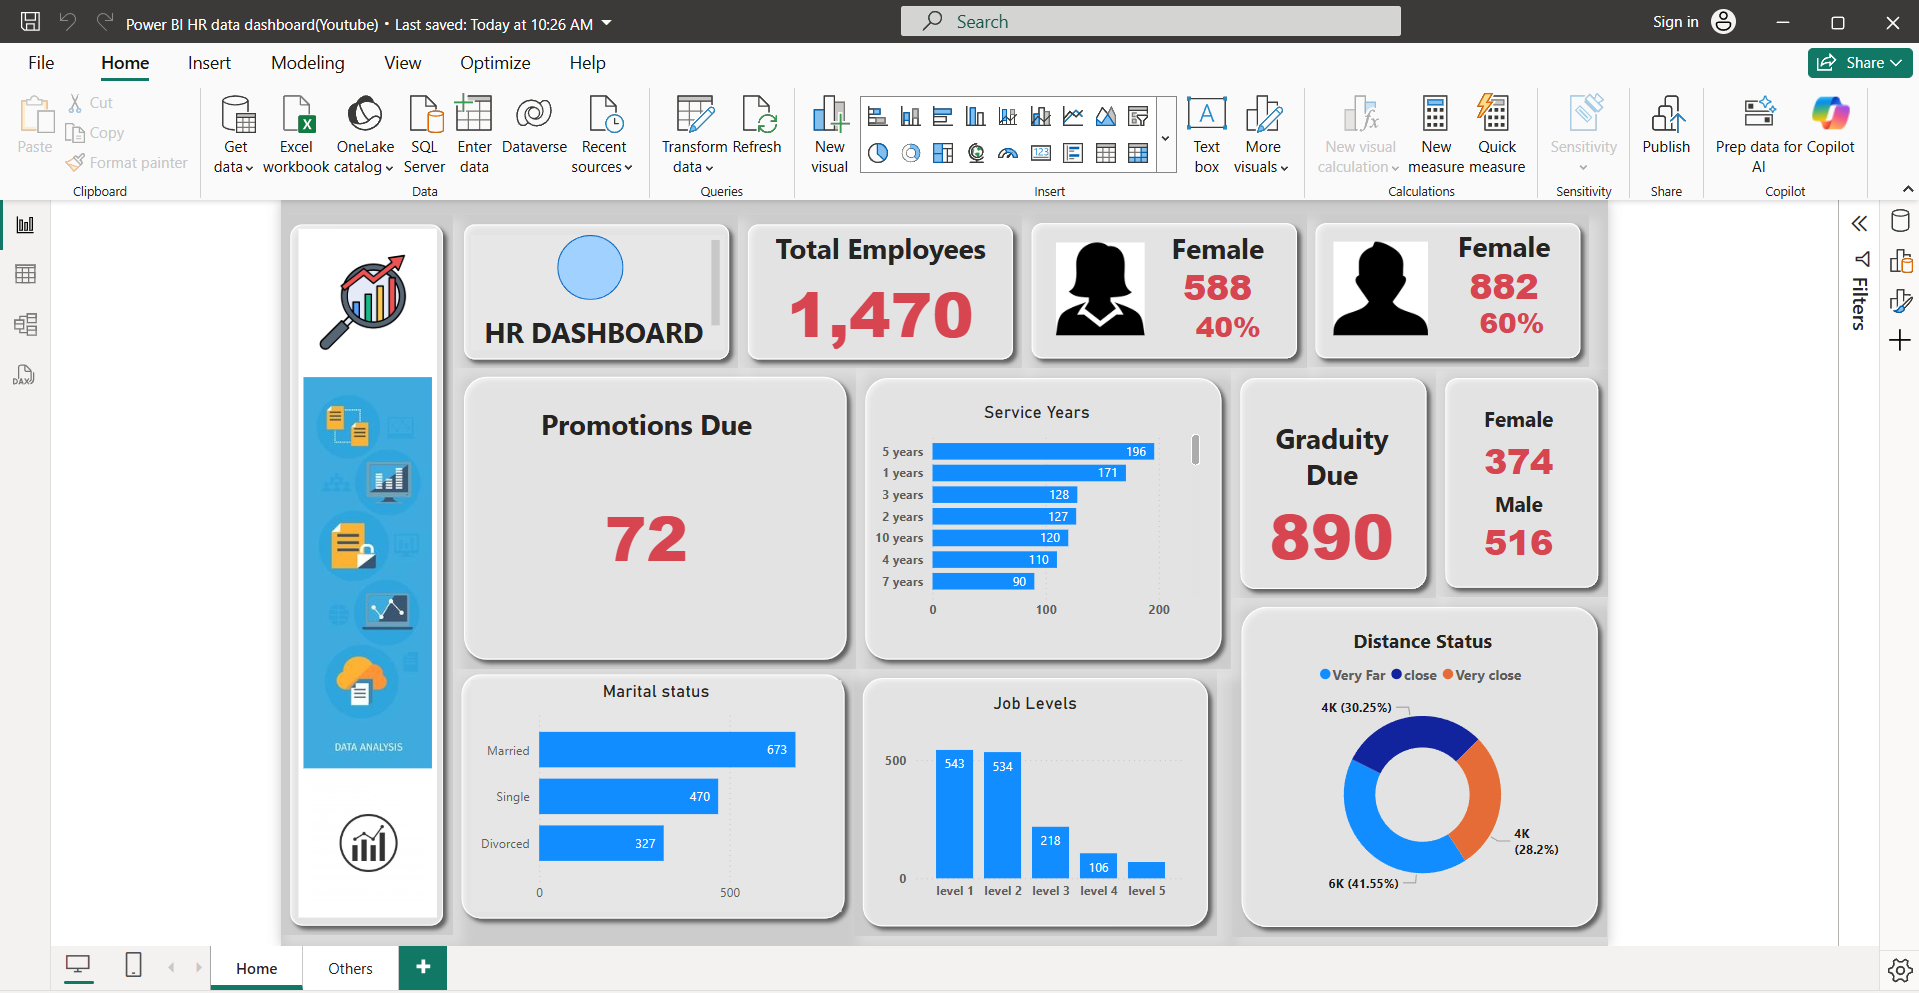

Layout of this report page (visuals, bound fields, positions):
{"tool":"powerbi","page":{"name":"Home","canvas":[1280,720],"ordinal":0},"visuals":[{"type":"shape","box":[0,14.5,165.3,694.9],"z":0},{"type":"shape","box":[989.3,13.3,273.9,148.4],"z":1000},{"type":"shape","box":[715.6,13,274.1,148.6],"z":2000},{"type":"shape","box":[441.6,14.5,273.9,148.4],"z":3000},{"type":"shape","box":[167.7,14.5,273.9,148.4],"z":4000},{"type":"shape","box":[168.2,161.5,387.1,291],"z":5000},{"type":"shape","box":[555.2,162.8,361.7,289.6],"z":6000},{"type":"shape","box":[552.6,452.5,351,257.6],"z":7000},{"type":"shape","box":[917,162.8,197.5,221.6],"z":8000},{"type":"shape","box":[1114.5,162.8,165.5,220.2],"z":9000},{"type":"shape","box":[918.3,383.1,361.7,327],"z":10000},{"type":"textbox","box":[183.4,33.8,244.9,111],"z":11000},{"type":"shape","box":[266.6,33.8,63.9,62.7],"z":12000},{"type":"card","title":"Total Employees","fields":{"Values":["New Measures.Total Emp"]},"box":[455.9,27.4,245.3,121.2],"z":13000},{"type":"card","title":"Female","fields":{"Values":["New Measures.Total Female"]},"box":[838.2,27.4,131.3,77.9],"z":14000},{"type":"card","fields":{"Values":["New Measures.Female %"]},"box":[838.2,64.9,151.5,115.4],"z":15000},{"type":"image","box":[743,33.2,95.2,103.9],"z":16000},{"type":"card","title":"Female","fields":{"Values":["New Measures.Total Male"]},"box":[1115.3,26,131.3,77.9],"z":17000},{"type":"card","fields":{"Values":["New Measures.Male %"]},"box":[1112.4,62,151.5,115.4],"z":18000},{"type":"image","box":[1011.4,33.2,101,102.4],"z":19000},{"type":"card","title":"Promotions Due","fields":{"Values":["New Measures.Due for promotion"]},"box":[181.2,197.5,343.8,215],"z":20000},{"type":"shape","box":[165,448.8,387.5,253.8],"z":22000},{"type":"barChart","title":"Service Years","fields":{"Category":["HR Analytics Data.Service Years"],"Y":["New Measures.Total Emp"]},"box":[567.5,193.8,325,220],"z":24000},{"type":"columnChart","title":"Job Levels","fields":{"Y":["New Measures.Total Emp"],"Category":["HR Analytics Data.Job Levels"]},"box":[577.9,475.2,300.3,209.6],"z":25000},{"type":"card","title":"Graduity Due","fields":{"Values":["New Measures.Graduity"]},"box":[930.3,210.9,168.2,149.5],"z":26000},{"type":"card","title":"Female","fields":{"Values":["New Measures.Graduity due for Female"]},"box":[1142.5,197.5,104.1,82.8],"z":27000},{"type":"card","title":"Male","fields":{"Values":["New Measures.Graduity due for Male"]},"box":[1142.5,280.3,104.1,74.7],"z":28000},{"type":"donutChart","title":"Distance Status","fields":{"Category":["HR Analytics Data.Distance Status"],"Y":["Sum(HR Analytics Data.DistanceFromHome)"]},"box":[941,412.4,321.7,268.3],"z":29000},{"type":"image","box":[16.9,27.7,133.9,664.7],"z":30000},{"type":"image","box":[16.9,0,124.3,197.9],"z":31000},{"type":"image","box":[22.9,559.8,123.1,121.9],"z":32000},{"type":"clusteredBarChart","title":"Marital status","fields":{"Y":["New Measures.Total Emp"],"Category":["HR Analytics Data.MaritalStatus"]},"box":[183.8,463.8,357.5,223.8],"z":32001}]}

Visuals, with their boxes on the page's 1280x720 design canvas (x1, y1, x2, y2). These are canvas units, not pixel positions in the 1919x993 screenshot, which may show the page scaled, cropped or inside an application window:
shape: [left=0, top=14, right=165, bottom=709]
shape: [left=989, top=13, right=1263, bottom=162]
shape: [left=716, top=13, right=990, bottom=162]
shape: [left=442, top=14, right=716, bottom=163]
shape: [left=168, top=14, right=442, bottom=163]
shape: [left=168, top=162, right=555, bottom=452]
shape: [left=555, top=163, right=917, bottom=452]
shape: [left=553, top=452, right=904, bottom=710]
shape: [left=917, top=163, right=1114, bottom=384]
shape: [left=1114, top=163, right=1280, bottom=383]
shape: [left=918, top=383, right=1280, bottom=710]
textbox: [left=183, top=34, right=428, bottom=145]
shape: [left=267, top=34, right=330, bottom=96]
"Total Employees" card: [left=456, top=27, right=701, bottom=149]
"Female" card: [left=838, top=27, right=970, bottom=105]
card - New Measures.Female %: [left=838, top=65, right=990, bottom=180]
image: [left=743, top=33, right=838, bottom=137]
"Female" card: [left=1115, top=26, right=1247, bottom=104]
card - New Measures.Male %: [left=1112, top=62, right=1264, bottom=177]
image: [left=1011, top=33, right=1112, bottom=136]
"Promotions Due" card: [left=181, top=198, right=525, bottom=412]
shape: [left=165, top=449, right=552, bottom=703]
"Service Years" barChart: [left=568, top=194, right=892, bottom=414]
"Job Levels" columnChart: [left=578, top=475, right=878, bottom=685]
"Graduity Due" card: [left=930, top=211, right=1098, bottom=360]
"Female" card: [left=1142, top=198, right=1247, bottom=280]
"Male" card: [left=1142, top=280, right=1247, bottom=355]
"Distance Status" donutChart: [left=941, top=412, right=1263, bottom=681]
image: [left=17, top=28, right=151, bottom=692]
image: [left=17, top=0, right=141, bottom=198]
image: [left=23, top=560, right=146, bottom=682]
"Marital status" clusteredBarChart: [left=184, top=464, right=541, bottom=688]
